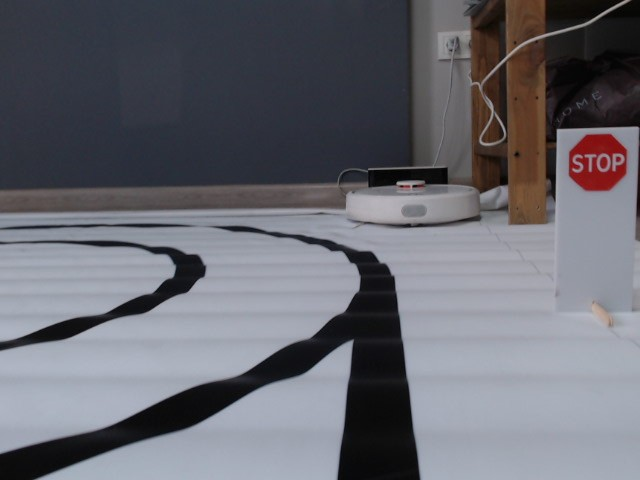Stop: (566, 132, 628, 193)
